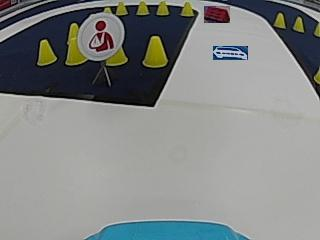cone: (65, 26, 87, 64), (142, 36, 167, 68), (36, 39, 56, 66), (106, 45, 128, 65), (180, 1, 194, 17), (136, 1, 149, 15), (156, 1, 169, 15), (115, 1, 128, 15), (273, 13, 286, 27), (293, 16, 304, 32)
patient: (82, 15, 116, 59)
